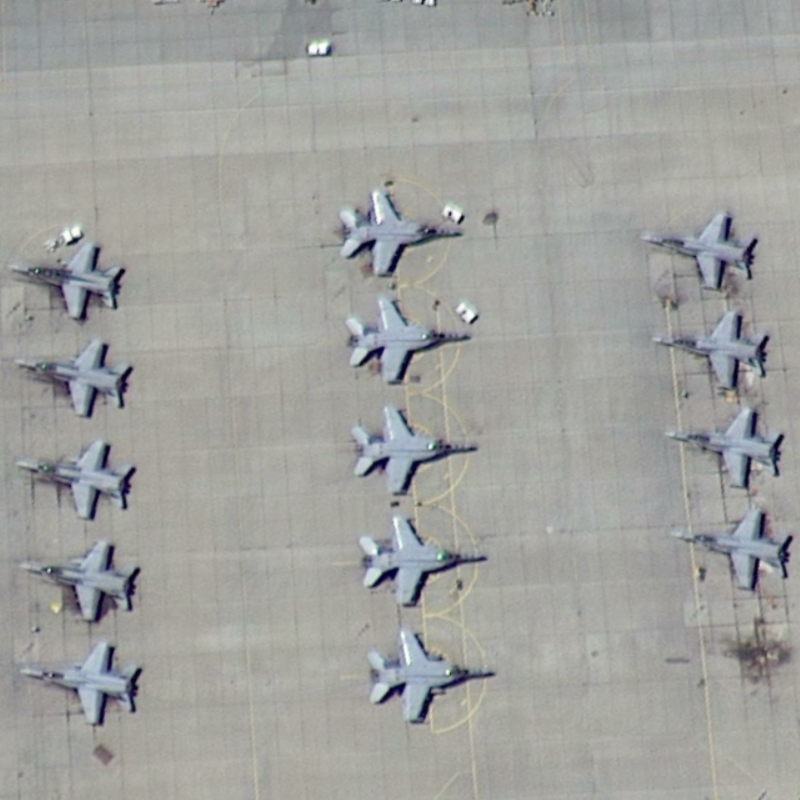A16: (345, 507, 493, 613), (339, 399, 482, 503), (364, 622, 499, 732), (331, 184, 469, 286), (339, 290, 476, 388), (12, 636, 149, 733), (663, 502, 791, 600), (7, 330, 139, 423), (15, 535, 144, 630), (10, 435, 140, 528), (647, 305, 777, 397), (634, 205, 763, 297), (654, 405, 790, 492), (4, 231, 131, 324)
